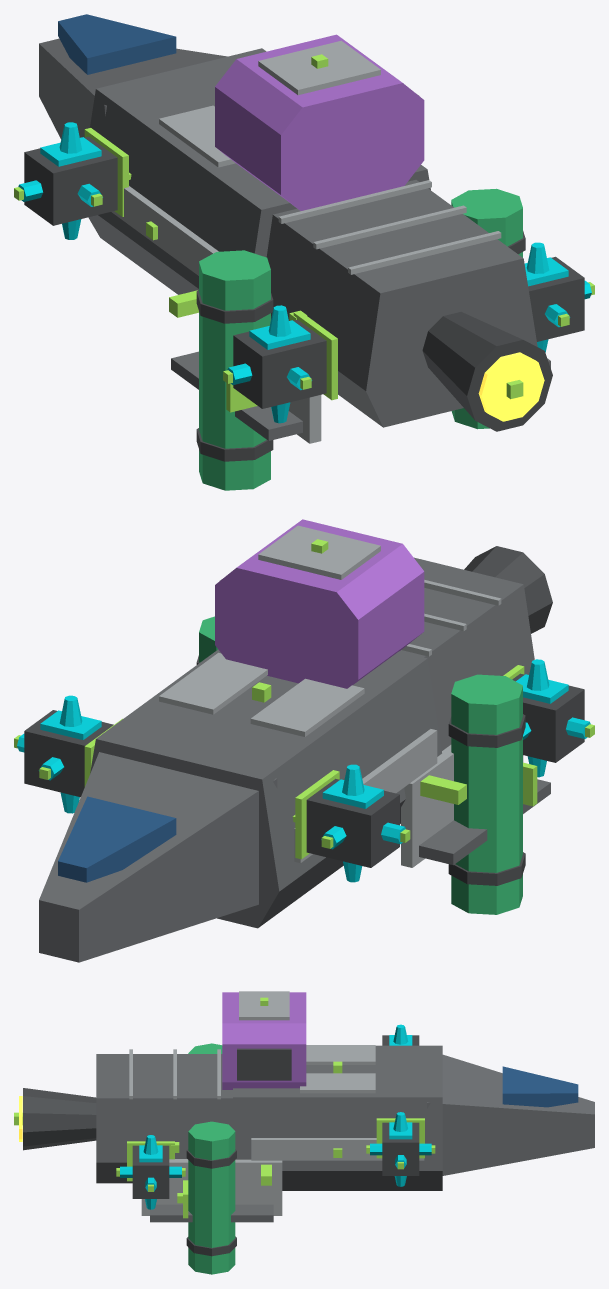
Rendered from demo_cargo_mk1.glb.
3 views of the same model, one above another, from view 1: azimuth 30°, elevation 25°; view 2: azimuth 150°, elevation 25°; view 3: azimuth 270°, elevation 25° (orthographic). The views are drawn at different scales.
Visible parts, largest first — view 1: DEMO_Cargo_Mk1_GEO_Hull_Segment_Faceted, DEMO_Cargo_Mk1_GEO_Cargo_Pod_Beveled, DEMO_Cargo_Mk1_GEO_Hull_Core_Faceted, DEMO_Cargo_Mk1_GEO_Fuel_Tank_Green_8Sided, DEMO_Cargo_Mk1_GEO_MainEngine_Bell_DarkMetal, DEMO_Cargo_Mk1_GEO_Cockpit_Wedge_Body, DEMO_Cargo_Mk1_GEO_RCS_Pod_Body, DEMO_Cargo_Mk1_GEO_RCS_Pod_Body.001, DEMO_Cargo_Mk1_GEO_Cockpit_Canopy_DarkBlue, DEMO_Cargo_Mk1_GEO_Cargo_Dark_Panel_Top, DEMO_Cargo_Mk1_GEO_MainEngine_Orange_Core, DEMO_Cargo_Mk1_GEO_Hull_Core_Left_Rib (+16 smaller); view 2: DEMO_Cargo_Mk1_GEO_Hull_Core_Faceted, DEMO_Cargo_Mk1_GEO_Cockpit_Wedge_Body, DEMO_Cargo_Mk1_GEO_Cargo_Pod_Beveled, DEMO_Cargo_Mk1_GEO_Fuel_Tank_Green_8Sided, DEMO_Cargo_Mk1_GEO_Hull_Segment_Faceted, DEMO_Cargo_Mk1_GEO_Cockpit_Canopy_DarkBlue, DEMO_Cargo_Mk1_GEO_RCS_Pod_Body, DEMO_Cargo_Mk1_GEO_Cargo_Dark_Panel_Top, DEMO_Cargo_Mk1_GEO_Hull_Core_TopPanel_-0.32, DEMO_Cargo_Mk1_GEO_Hull_Core_TopPanel_0.32, DEMO_Cargo_Mk1_GEO_RCS_Pod_Body.002, DEMO_Cargo_Mk1_GEO_RCS_Pod_Body.001 (+14 smaller); view 3: DEMO_Cargo_Mk1_GEO_Hull_Core_Faceted, DEMO_Cargo_Mk1_GEO_Hull_Segment_Faceted, DEMO_Cargo_Mk1_GEO_Cockpit_Wedge_Body, DEMO_Cargo_Mk1_GEO_Fuel_Tank_Green_8Sided.001, DEMO_Cargo_Mk1_GEO_Cargo_Pod_Beveled, DEMO_Cargo_Mk1_GEO_MainEngine_Bell_DarkMetal, DEMO_Cargo_Mk1_FuelTank_Right_SideSaddle, DEMO_Cargo_Mk1_GEO_Hull_Core_Right_Rib, DEMO_Cargo_Mk1_GEO_Cockpit_Canopy_DarkBlue, DEMO_Cargo_Mk1_GEO_Cargo_Dark_Panel_Side, DEMO_Cargo_Mk1_GEO_RCS_Pod_Body.003, DEMO_Cargo_Mk1_GEO_RCS_Pod_Body.002 (+8 smaller).
Part boxes in pixels (left/top/right/bottom): DEMO_Cargo_Mk1_GEO_Hull_Segment_Faceted: left=266, top=180, right=537, bottom=427; DEMO_Cargo_Mk1_GEO_Cargo_Pod_Beveled: left=215, top=34, right=424, bottom=210; DEMO_Cargo_Mk1_GEO_Hull_Core_Faceted: left=88, top=48, right=430, bottom=294; DEMO_Cargo_Mk1_GEO_Fuel_Tank_Green_8Sided: left=199, top=250, right=270, bottom=490; DEMO_Cargo_Mk1_GEO_MainEngine_Bell_DarkMetal: left=422, top=311, right=552, bottom=431; DEMO_Cargo_Mk1_GEO_Cockpit_Wedge_Body: left=39, top=38, right=227, bottom=139; DEMO_Cargo_Mk1_GEO_RCS_Pod_Body: left=24, top=136, right=117, bottom=225; DEMO_Cargo_Mk1_GEO_RCS_Pod_Body.001: left=233, top=319, right=326, bottom=408; DEMO_Cargo_Mk1_GEO_Cockpit_Canopy_DarkBlue: left=58, top=14, right=176, bottom=74; DEMO_Cargo_Mk1_GEO_Cargo_Dark_Panel_Top: left=258, top=40, right=380, bottom=95; DEMO_Cargo_Mk1_GEO_MainEngine_Orange_Core: left=478, top=352, right=544, bottom=421; DEMO_Cargo_Mk1_GEO_Hull_Core_Left_Rib: left=111, top=186, right=218, bottom=275; DEMO_Cargo_Mk1_GEO_Hull_Core_Faceted: left=90, top=649, right=441, bottom=928; DEMO_Cargo_Mk1_GEO_Cockpit_Wedge_Body: left=39, top=752, right=277, bottom=962; DEMO_Cargo_Mk1_GEO_Cargo_Pod_Beveled: left=215, top=519, right=424, bottom=688; DEMO_Cargo_Mk1_GEO_Fuel_Tank_Green_8Sided: left=451, top=674, right=522, bottom=914; DEMO_Cargo_Mk1_GEO_Hull_Segment_Faceted: left=399, top=557, right=534, bottom=750; DEMO_Cargo_Mk1_GEO_Cockpit_Canopy_DarkBlue: left=58, top=796, right=176, bottom=882; DEMO_Cargo_Mk1_GEO_RCS_Pod_Body: left=306, top=778, right=399, bottom=867; DEMO_Cargo_Mk1_GEO_Cargo_Dark_Panel_Top: left=258, top=525, right=380, bottom=579; DEMO_Cargo_Mk1_GEO_Hull_Core_TopPanel_-0.32: left=250, top=678, right=364, bottom=736; DEMO_Cargo_Mk1_GEO_Hull_Core_TopPanel_0.32: left=159, top=652, right=267, bottom=714; DEMO_Cargo_Mk1_GEO_RCS_Pod_Body.002: left=24, top=710, right=113, bottom=797; DEMO_Cargo_Mk1_GEO_RCS_Pod_Body.001: left=512, top=673, right=584, bottom=762; DEMO_Cargo_Mk1_GEO_Hull_Core_Faceted: left=233, top=1045, right=442, bottom=1190; DEMO_Cargo_Mk1_GEO_Hull_Segment_Faceted: left=96, top=1054, right=232, bottom=1183; DEMO_Cargo_Mk1_GEO_Cockpit_Wedge_Body: left=427, top=1054, right=594, bottom=1175; DEMO_Cargo_Mk1_GEO_Fuel_Tank_Green_8Sided.001: left=188, top=1121, right=235, bottom=1274; DEMO_Cargo_Mk1_GEO_Cargo_Pod_Beveled: left=222, top=992, right=306, bottom=1089; DEMO_Cargo_Mk1_GEO_MainEngine_Bell_DarkMetal: left=23, top=1088, right=96, bottom=1150; DEMO_Cargo_Mk1_FuelTank_Right_SideSaddle: left=141, top=1159, right=282, bottom=1215; DEMO_Cargo_Mk1_GEO_Hull_Core_Right_Rib: left=251, top=1138, right=424, bottom=1160; DEMO_Cargo_Mk1_GEO_Cockpit_Canopy_DarkBlue: left=502, top=1066, right=578, bottom=1107; DEMO_Cargo_Mk1_GEO_Cargo_Dark_Panel_Side: left=237, top=1048, right=291, bottom=1080; DEMO_Cargo_Mk1_GEO_RCS_Pod_Body.003: left=132, top=1145, right=169, bottom=1198; DEMO_Cargo_Mk1_GEO_RCS_Pod_Body.002: left=382, top=1122, right=419, bottom=1175.
Bounding box in the file's own units: 2.73 × 2.38 × 5.54.
